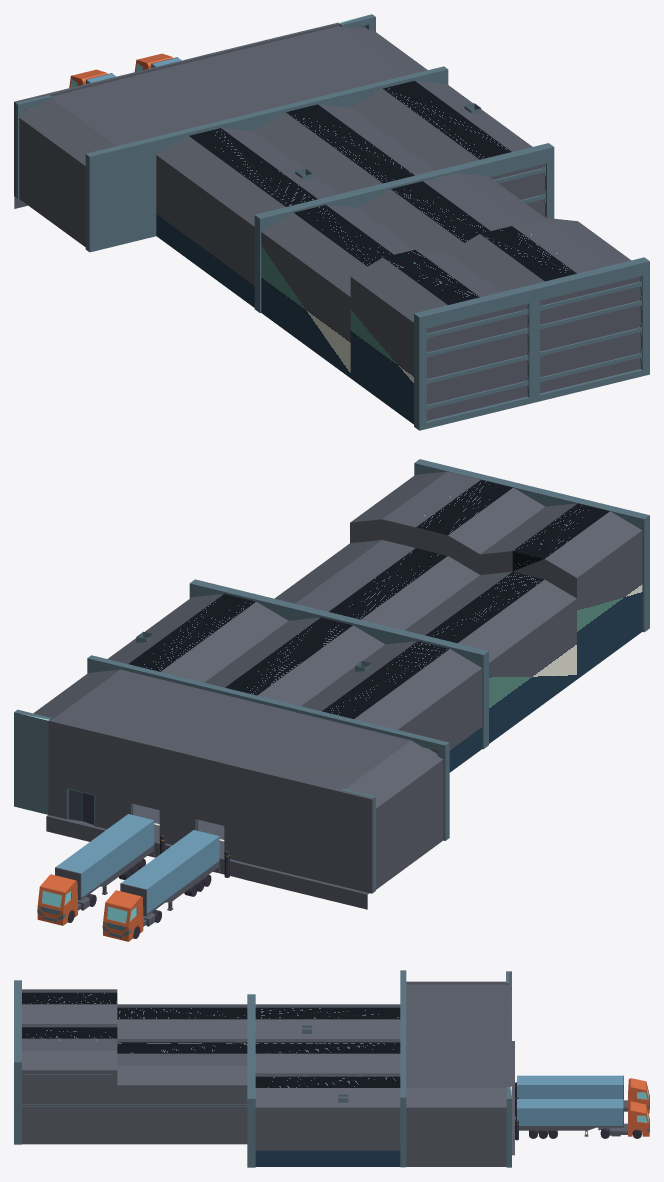
File: Scenary_Warehouse_.fbx
The picture shows the model from 3 angles, top to bottom: view 1: azimuth 30°, elevation 25°; view 2: azimuth 150°, elevation 25°; view 3: azimuth 270°, elevation 25°; orthographic projection. The views are drawn at different scales.
Parts seen in each view (by area): view 1: Scenary_ZonaDeRecepcion_Oficina, Scenary_ZonaDeBodega, Scenary_ZonaDeDescarga, Scenary_Wall_b, Scenary_Wall_A, Scenary_Wall_B; view 2: Scenary_ZonaDeDescarga, Scenary_ZonaDeRecepcion_Oficina, Scenary_ZonaDeBodega, Prop_Truck.001, Prop_Truck, Scenary_Wall_B, Scenary_Wall_A, Scenary_Wall_b; view 3: Scenary_ZonaDeRecepcion_Oficina, Scenary_ZonaDeBodega, Scenary_ZonaDeDescarga, Prop_Truck, Prop_Truck.001, Scenary_Wall_B, Scenary_Wall_A, Scenary_Wall_b.
Boxes of the visible parts, bbox=[...] form: Scenary_ZonaDeRecepcion_Oficina: bbox=[261, 173, 631, 424]; Scenary_ZonaDeBodega: bbox=[156, 80, 532, 307]; Scenary_ZonaDeDescarga: bbox=[14, 14, 427, 246]; Scenary_Wall_b: bbox=[414, 257, 649, 430]; Scenary_Wall_A: bbox=[85, 66, 448, 252]; Scenary_Wall_B: bbox=[254, 143, 554, 312]; Scenary_ZonaDeDescarga: bbox=[14, 669, 443, 909]; Scenary_ZonaDeRecepcion_Oficina: bbox=[275, 471, 642, 743]; Scenary_ZonaDeBodega: bbox=[108, 594, 482, 772]; Prop_Truck.001: bbox=[102, 830, 220, 941]; Prop_Truck: bbox=[37, 814, 155, 925]; Scenary_Wall_B: bbox=[189, 579, 488, 749]; Scenary_Wall_A: bbox=[87, 655, 449, 840]; Scenary_Wall_b: bbox=[414, 459, 649, 632]; Scenary_ZonaDeRecepcion_Oficina: bbox=[22, 989, 247, 1144]; Scenary_ZonaDeBodega: bbox=[255, 1004, 400, 1166]; Scenary_ZonaDeDescarga: bbox=[406, 971, 518, 1167]; Prop_Truck: bbox=[517, 1099, 649, 1138]; Prop_Truck.001: bbox=[517, 1075, 649, 1113]; Scenary_Wall_B: bbox=[247, 994, 255, 1167]; Scenary_Wall_A: bbox=[400, 970, 406, 1167]; Scenary_Wall_b: bbox=[14, 980, 21, 1144].
Bounding box in the file's own units: 3341 × 1172 × 7025.
Materials: 6 (6 with a texture image).
